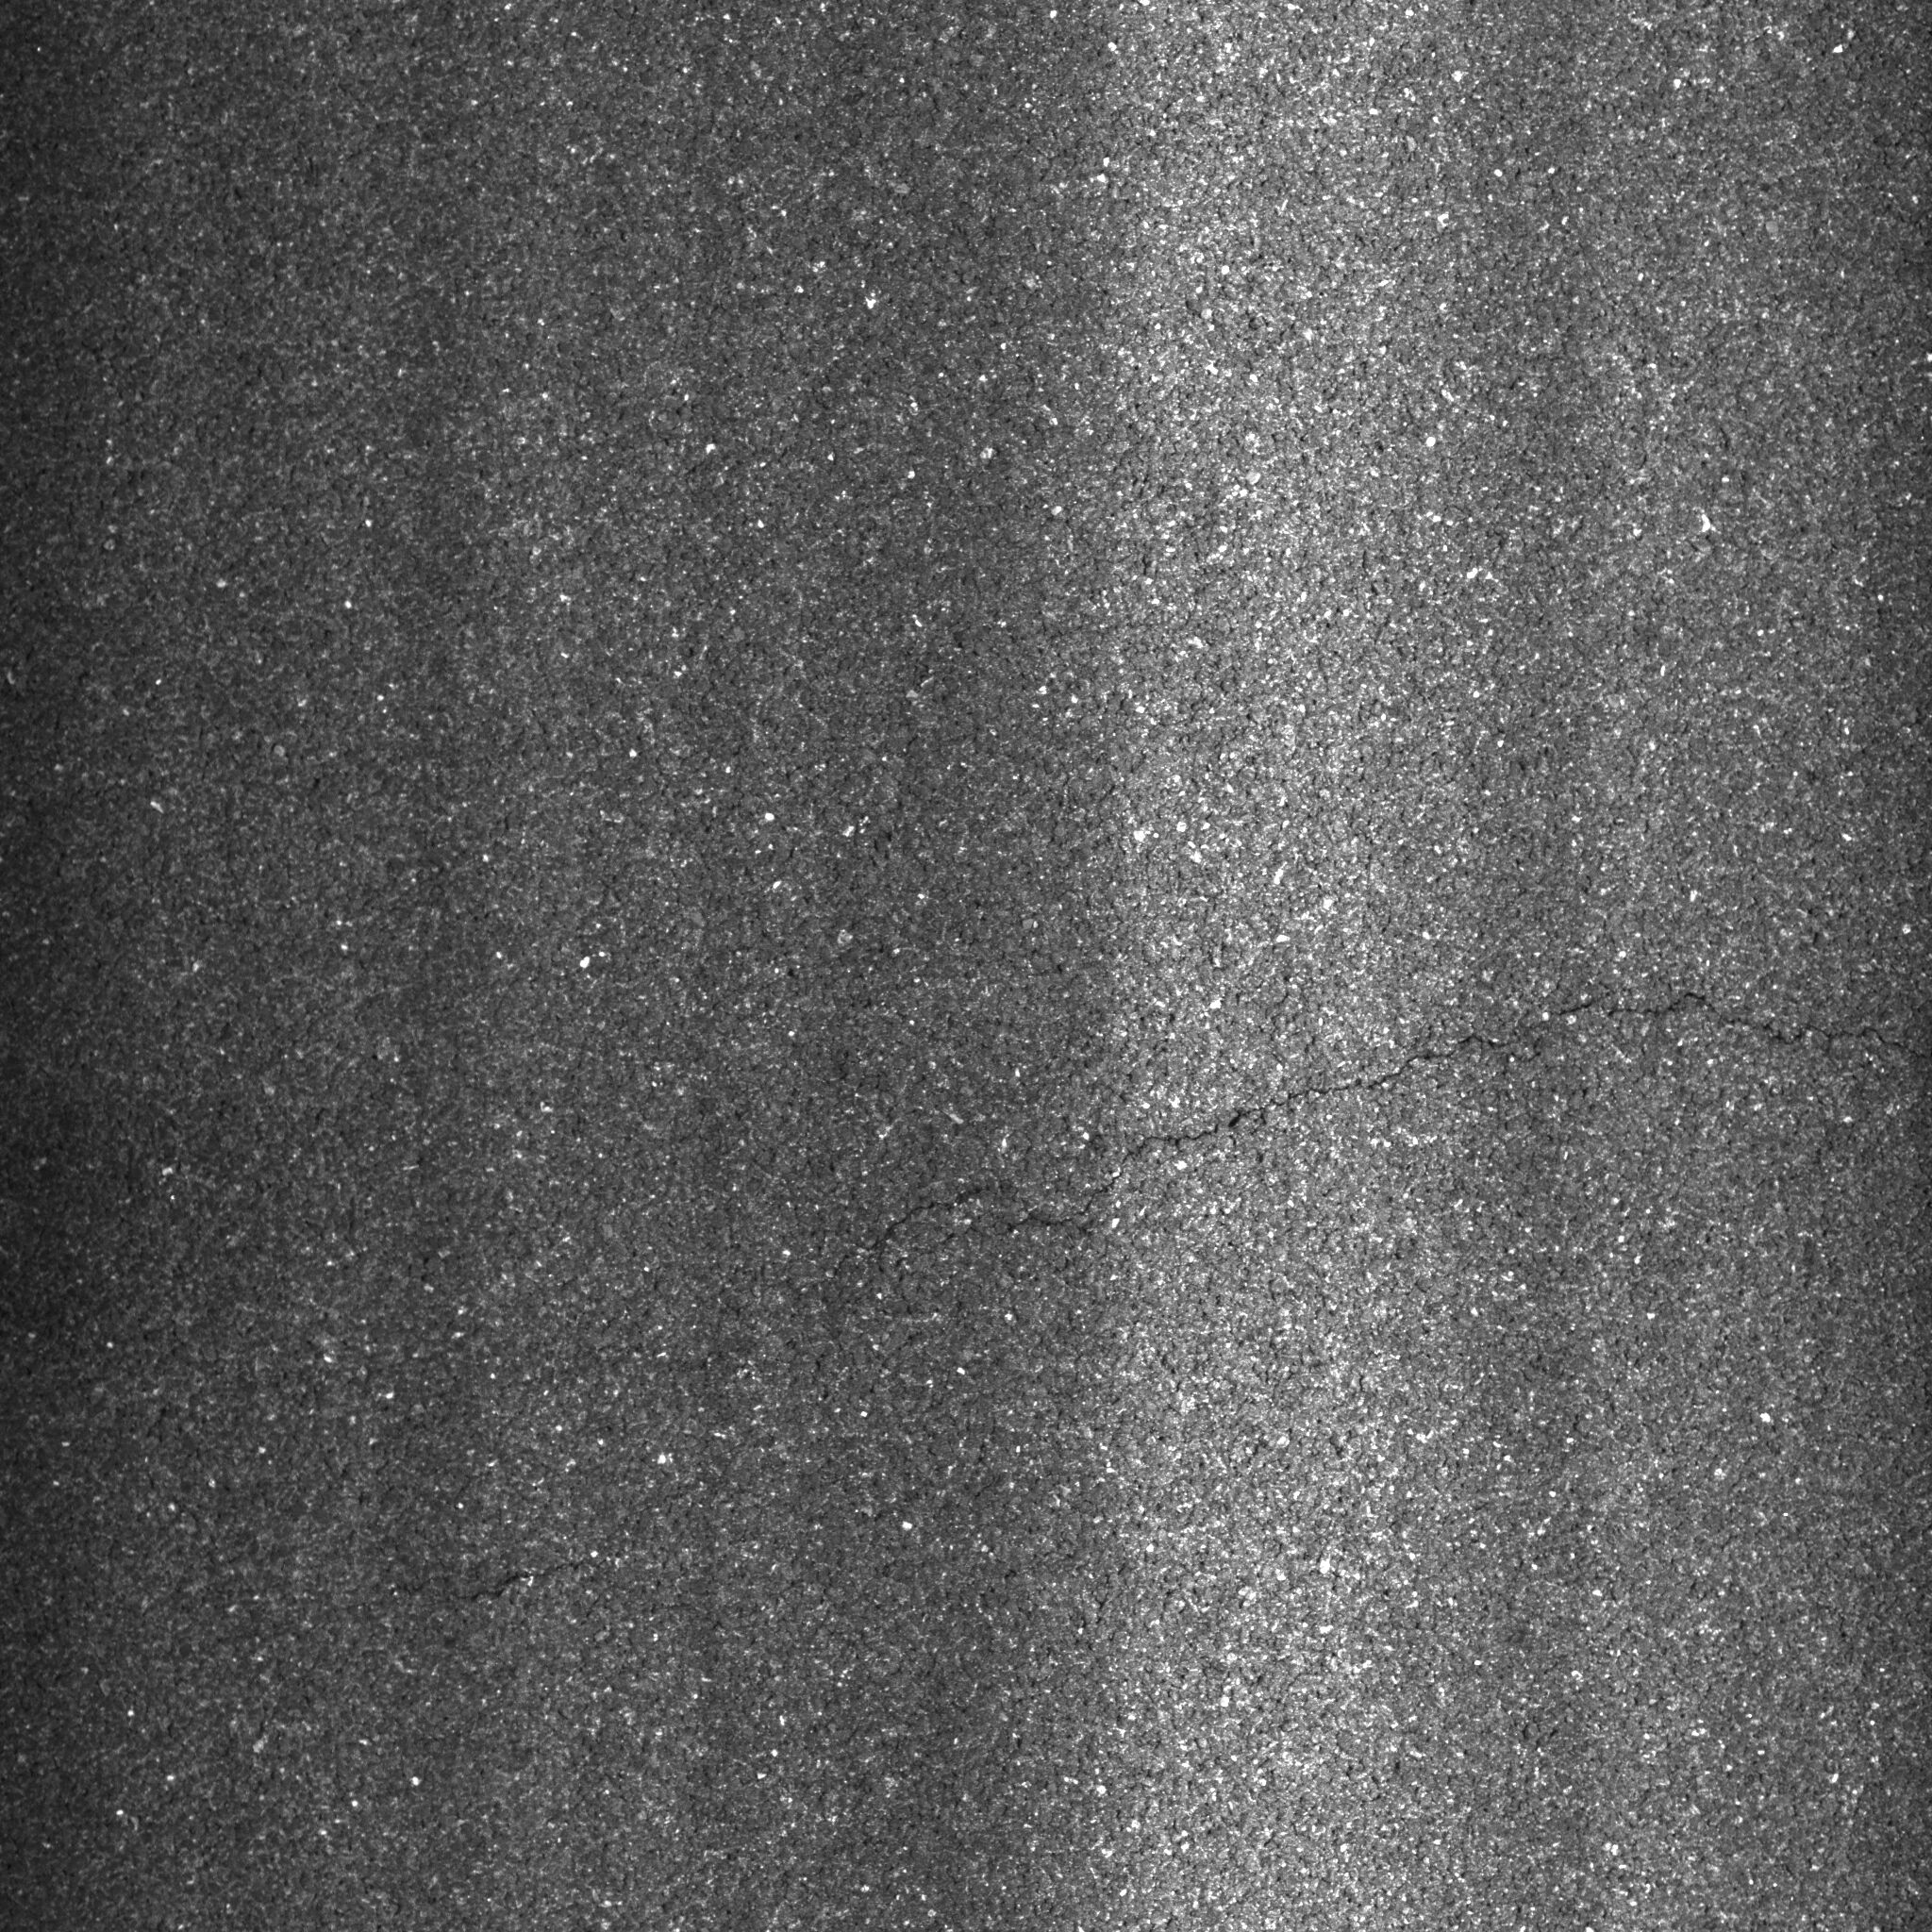transverse: (851, 962, 1925, 1253)
